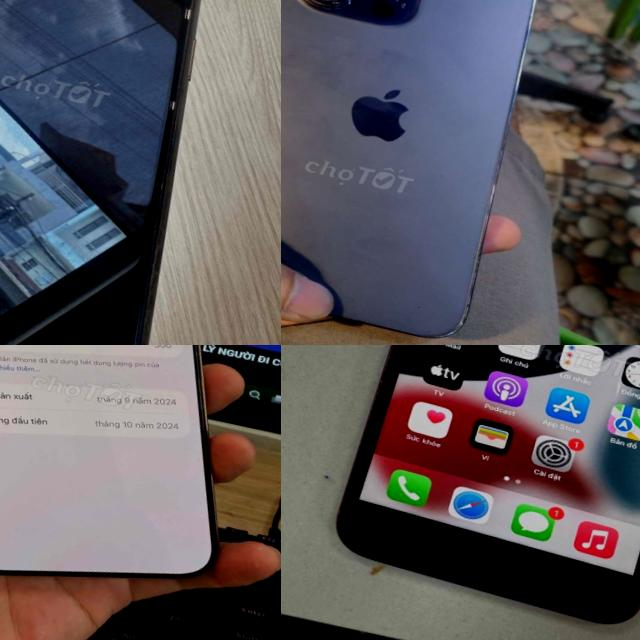scratch: (167, 92, 184, 118), (180, 8, 196, 26)
